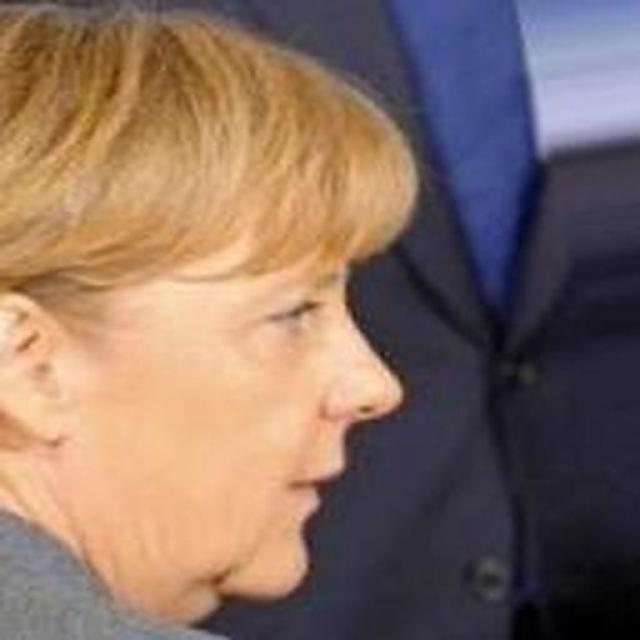bareface: (0, 28, 417, 624)
